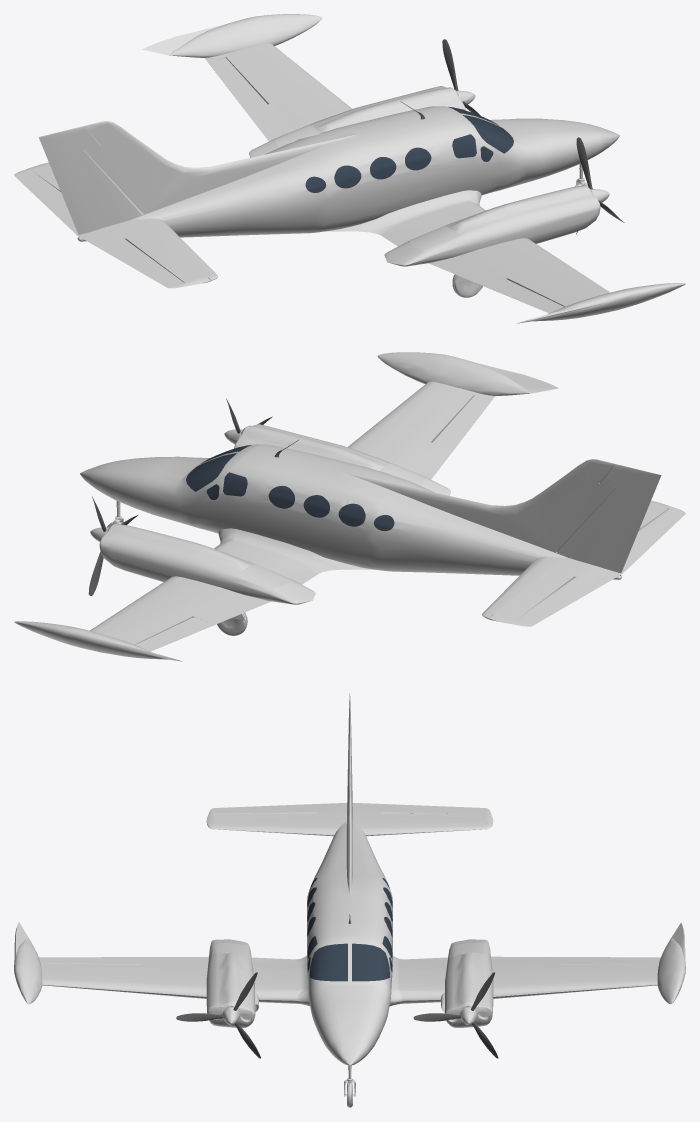
3 views of the same model, one above another, from view 1: azimuth 30°, elevation 25°; view 2: azimuth 150°, elevation 25°; view 3: azimuth 270°, elevation 25° (orthographic). The views are drawn at different scales.
Visible parts, largest first — view 1: body, glass, spin; view 2: body, glass, spin; view 3: body, glass, spin (×2).
Part boxes in pixels (left/top/right/bottom): body: left=14, top=14, right=685, bottom=323; glass: left=305, top=106, right=513, bottom=192; spin: left=576, top=137, right=624, bottom=233; body: left=14, top=352, right=685, bottom=661; glass: left=186, top=445, right=394, bottom=531; spin: left=88, top=496, right=137, bottom=595; body: left=14, top=693, right=685, bottom=1107; glass: left=307, top=878, right=392, bottom=981; spin (×2): left=176, top=972, right=498, bottom=1058.
Size of the model in its own units: 1.94 by 0.657 by 2.2.
